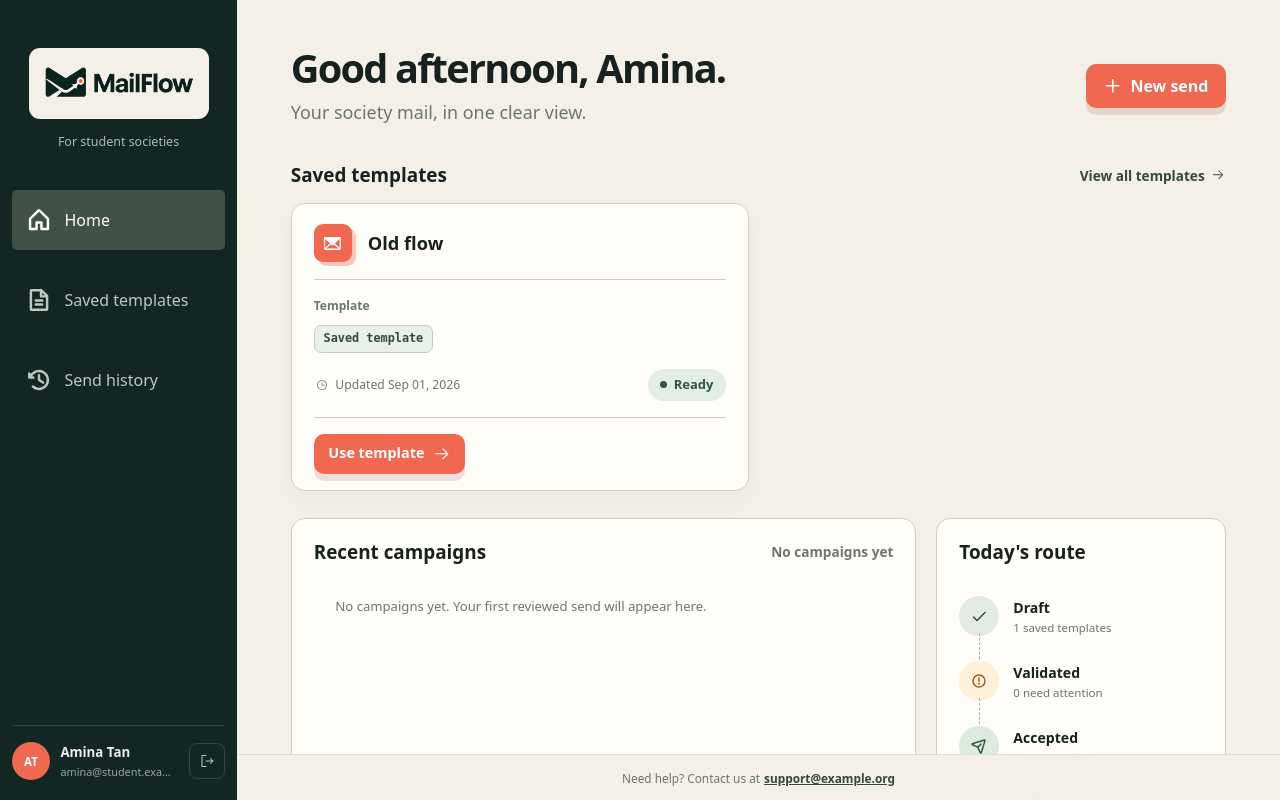
Test: authenticated information architecture › revalidates shared data when navigation enters the flow library
Expected: the heading "Old flow" is shown, [368,231,443,255]
Click the link "Saved templates": [107, 300] box [26,287,188,313]
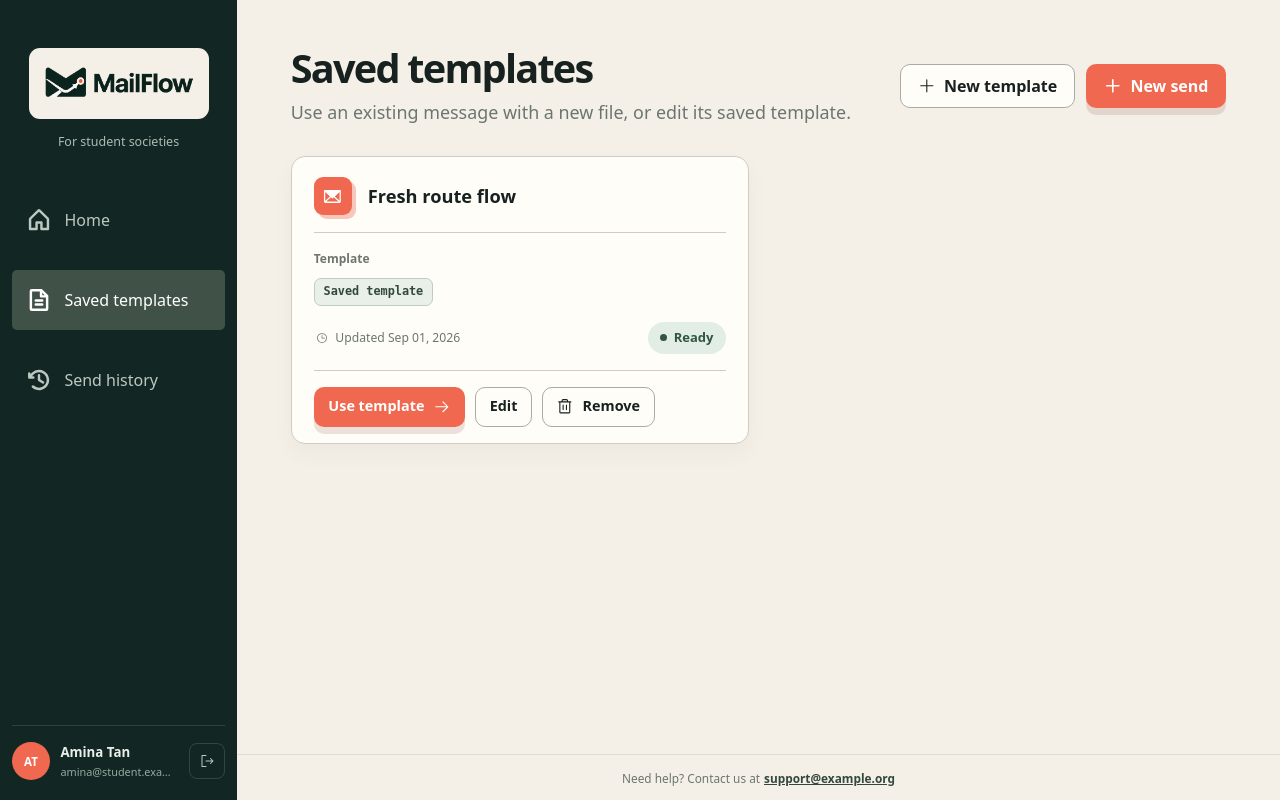
Now the heading "Fresh route flow" is shown, box [368,184,516,208]
Now the heading "Old flow" is gone
